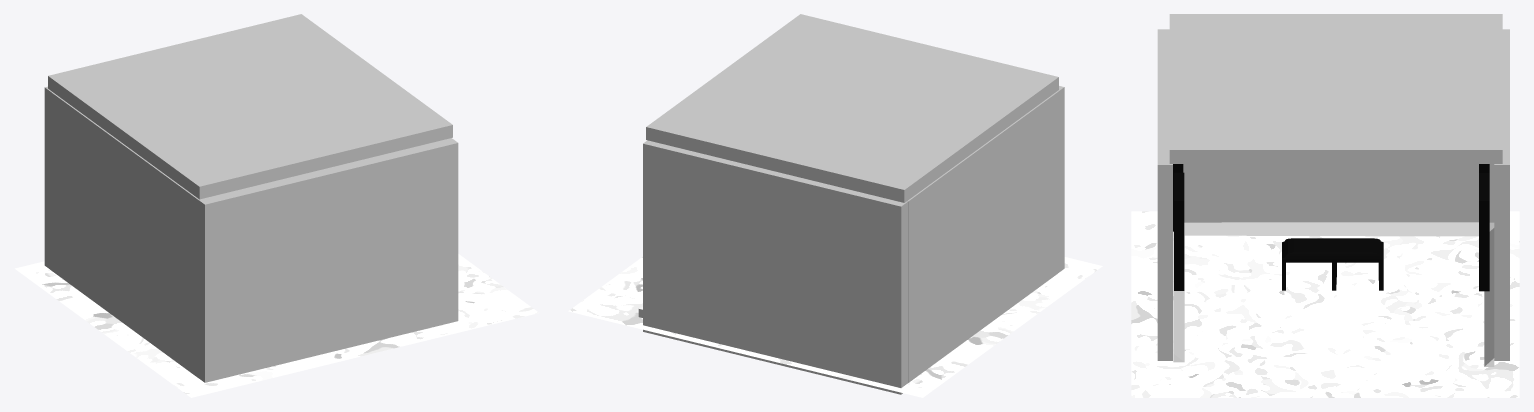
Rendered from galleri.gltf.
3 renders of one model, left to right at view 1: azimuth 30°, elevation 25°; view 2: azimuth 150°, elevation 25°; view 3: azimuth 270°, elevation 25°, orthographic. The views are drawn at different scales.
Visible parts, largest first — view 1: Plane.001; view 2: Plane.001; view 3: Plane.001.
Boxes of the visible parts, left/top/right/bottom form: Plane.001: left=15, top=14, right=538, bottom=397; Plane.001: left=568, top=14, right=1102, bottom=397; Plane.001: left=1131, top=14, right=1519, bottom=397.
Size of the model in its own units: 17.26 by 9.4 by 15.17.
Materials: 5 (1 with a texture image).
